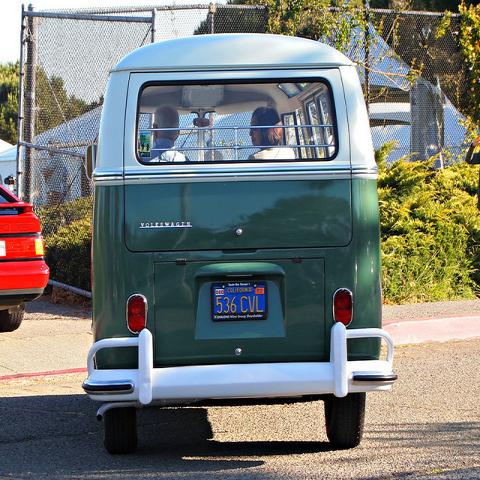bus: (82, 31, 399, 456)
car: (0, 184, 54, 336)
